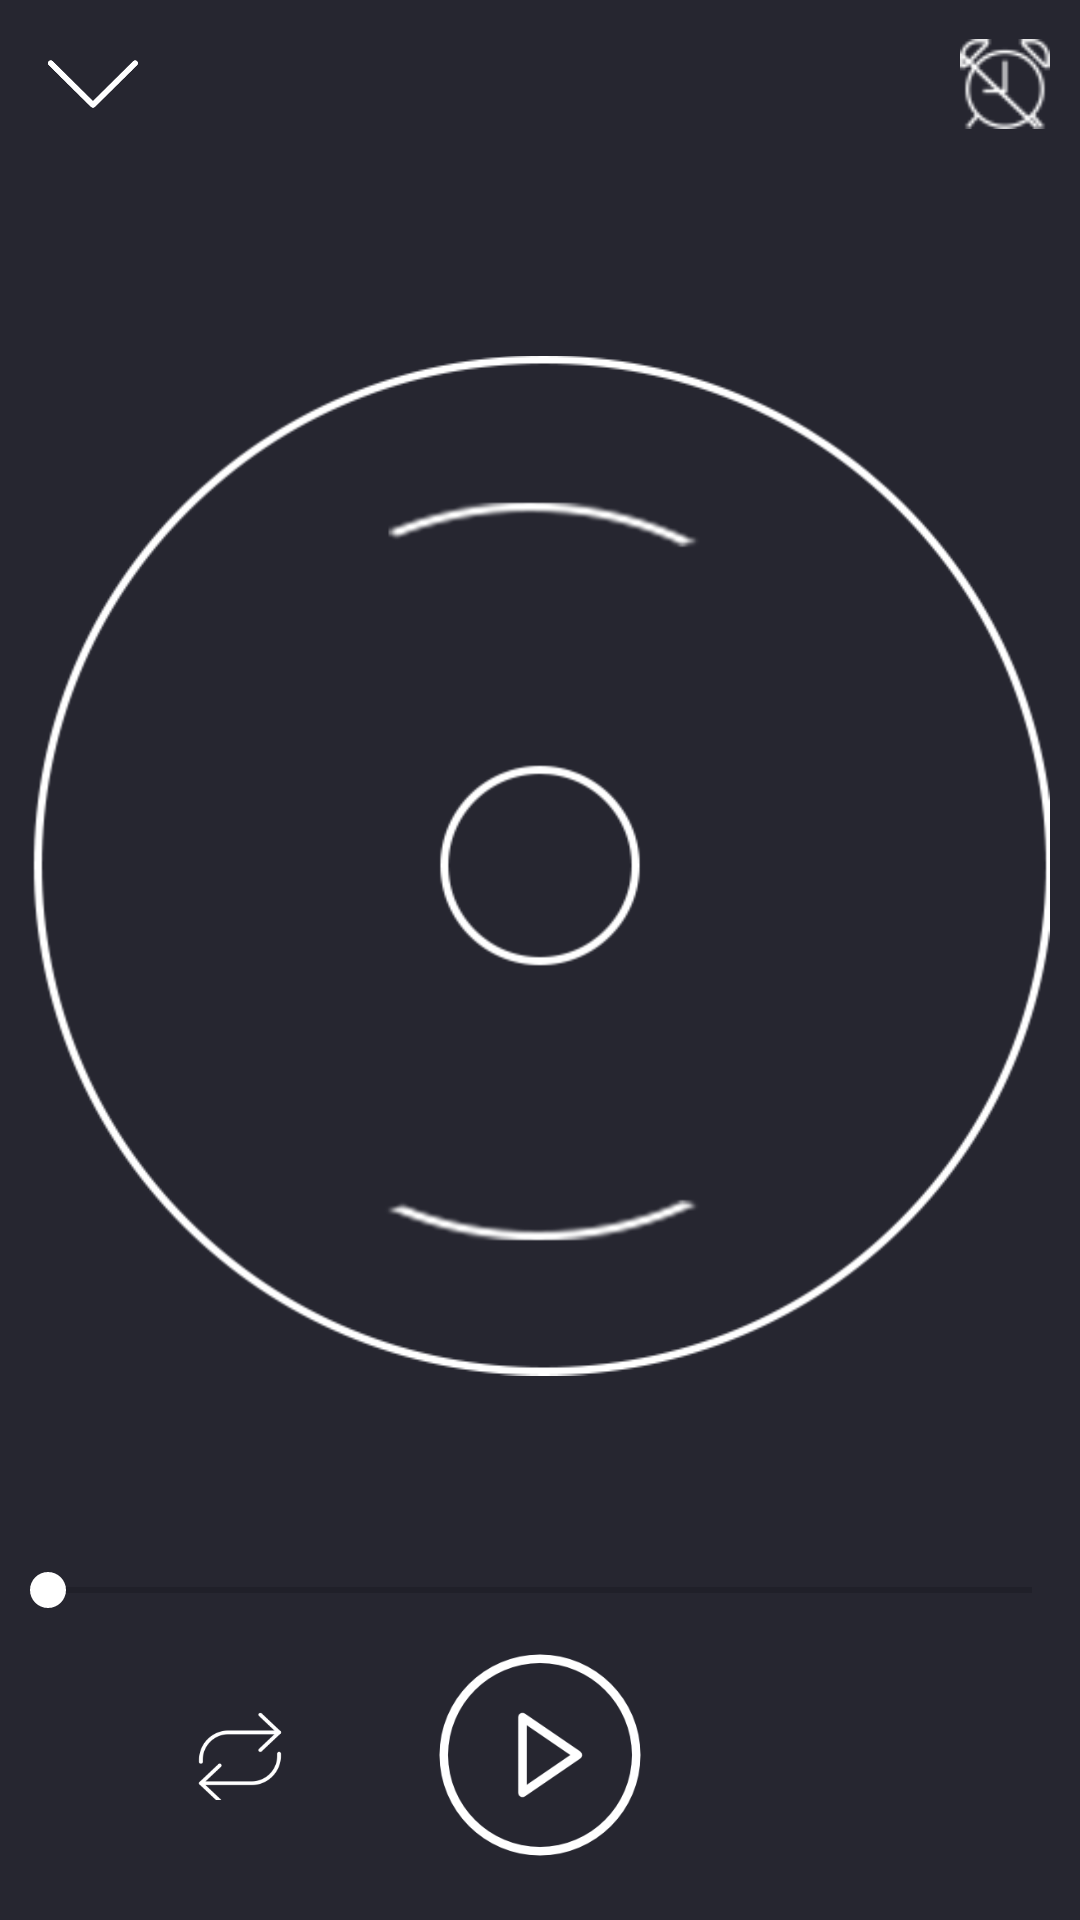

Screen size 1080*1920. Icon name, then its box in pixels as (x1, y1, x2, y2):
exit: (48, 60, 138, 108)
